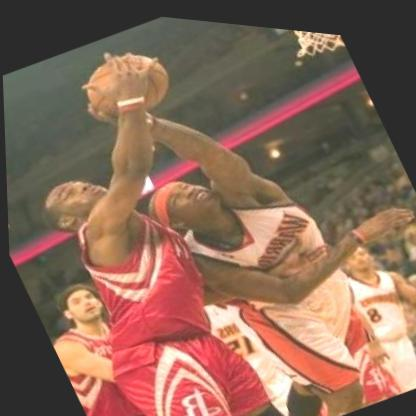basketball: (67, 26, 184, 138)
